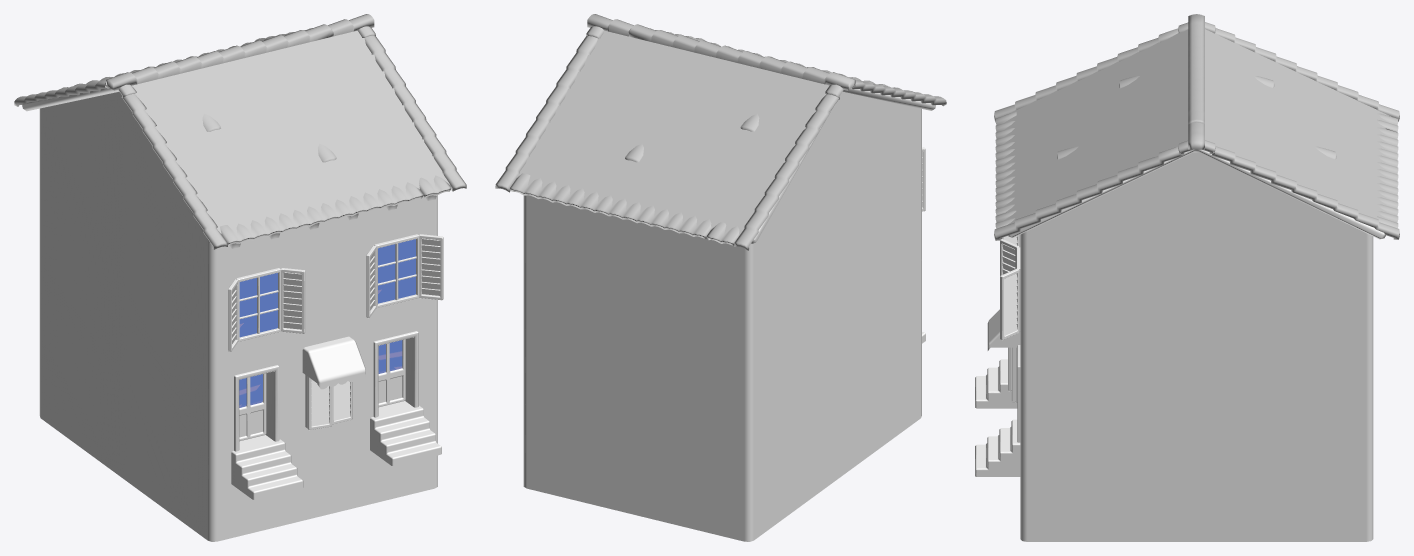
Rendered from BackgroundBuilding7.fbx.
3 renders of one model, left to right at view 1: azimuth 30°, elevation 25°; view 2: azimuth 150°, elevation 25°; view 3: azimuth 270°, elevation 25°, orthographic.
Visible parts, largest first — view 1: Yellow; view 2: Yellow; view 3: Yellow.
Part boxes in pixels (x1,y1,x2,y2): Yellow: (14, 14, 466, 541); Yellow: (495, 14, 946, 541); Yellow: (975, 14, 1399, 541).
Bounding box in the file's own units: 868 × 1281 × 1203.
